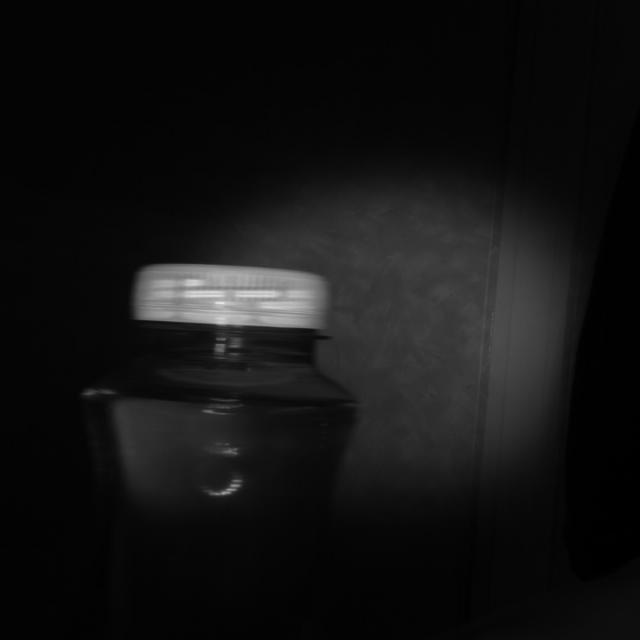Good: (129, 260, 332, 333)
